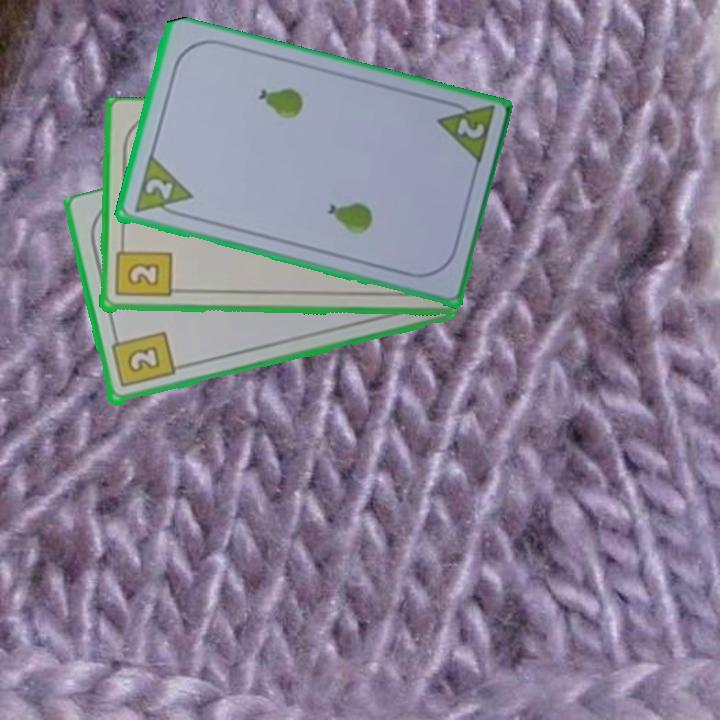2b: (107, 328, 177, 391), (111, 239, 173, 300)
2p: (432, 95, 497, 169), (130, 153, 195, 222)
